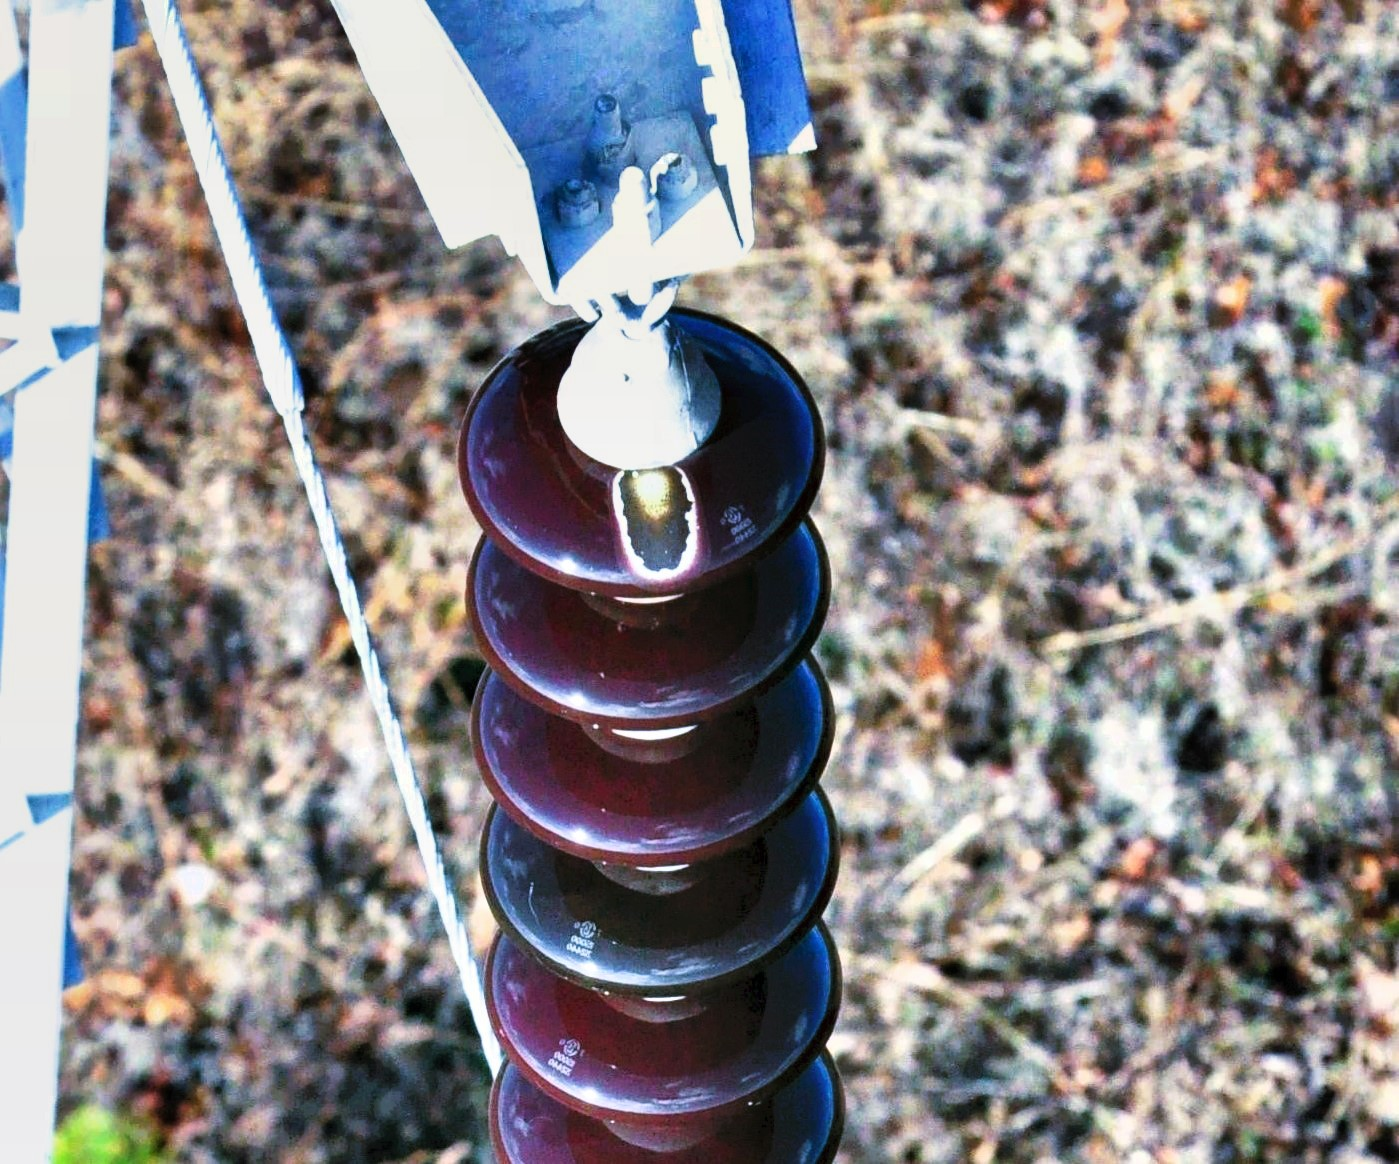Insulator flashover: (445, 299, 837, 601)
